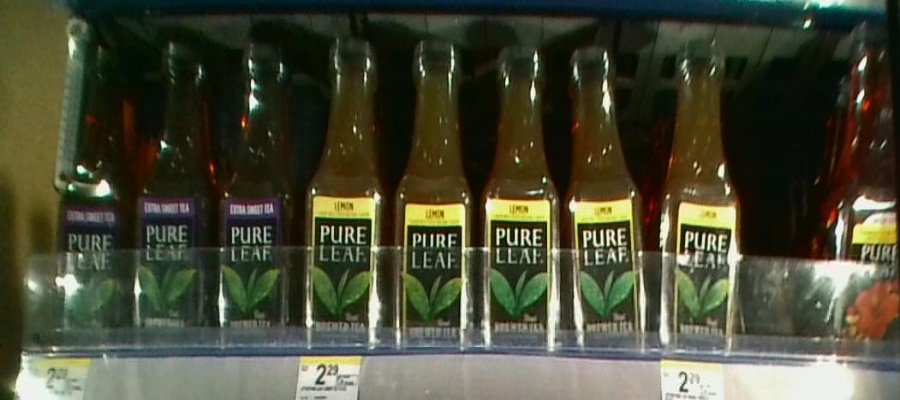bottle: (565, 38, 657, 355), (392, 38, 480, 364), (662, 21, 745, 363), (302, 25, 387, 355), (216, 36, 298, 357), (136, 18, 212, 356), (485, 32, 562, 361), (57, 21, 134, 347), (834, 16, 900, 364)
